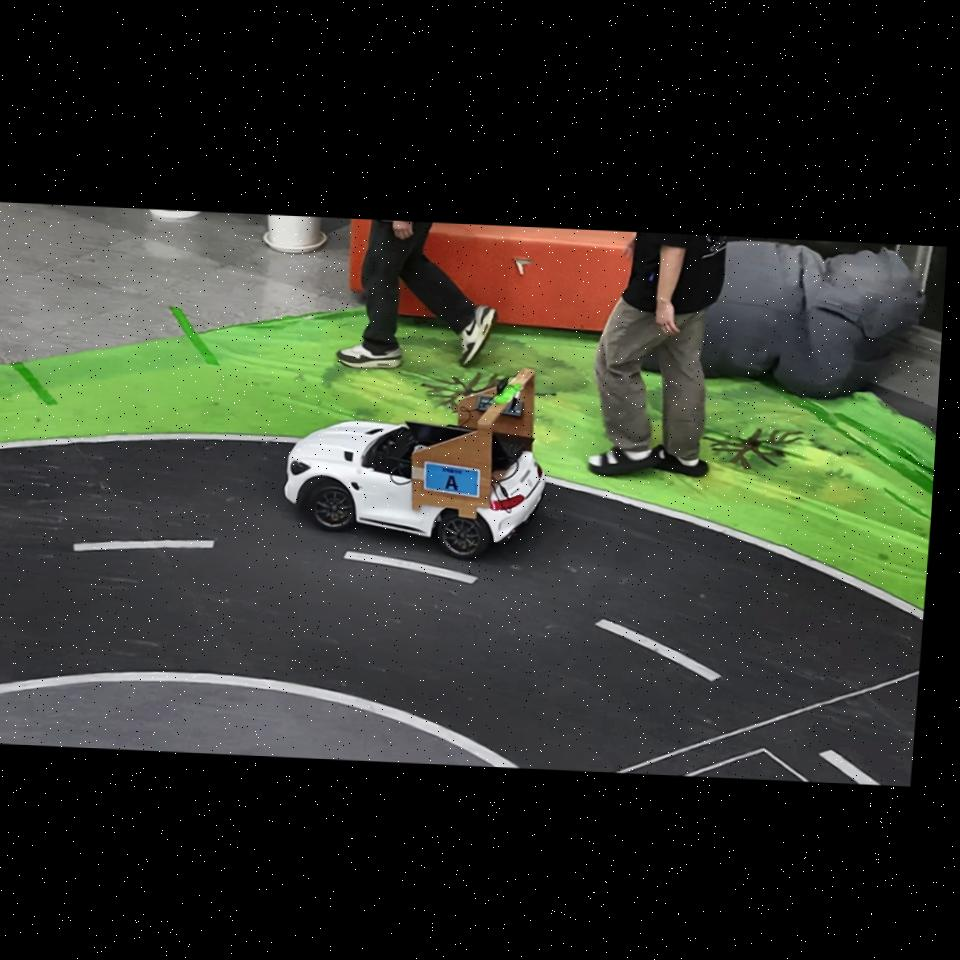broken_line: (595, 619, 720, 681), (343, 551, 477, 584), (819, 750, 880, 785), (74, 539, 214, 551)
